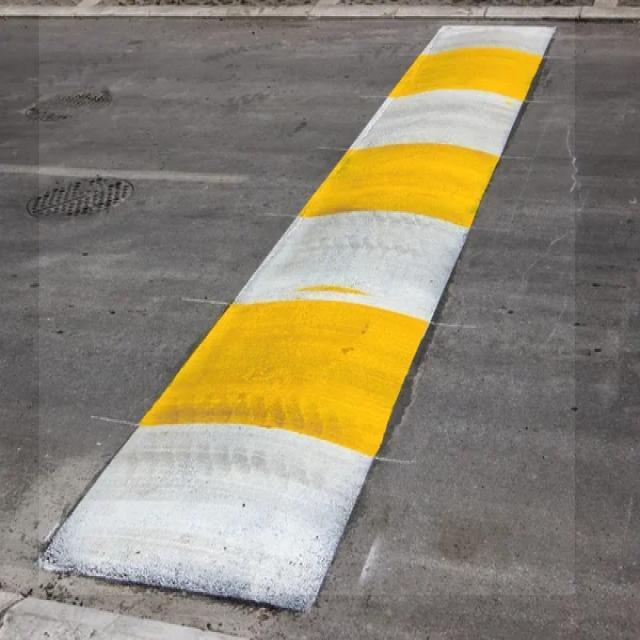speed-bump: (39, 15, 575, 595)
